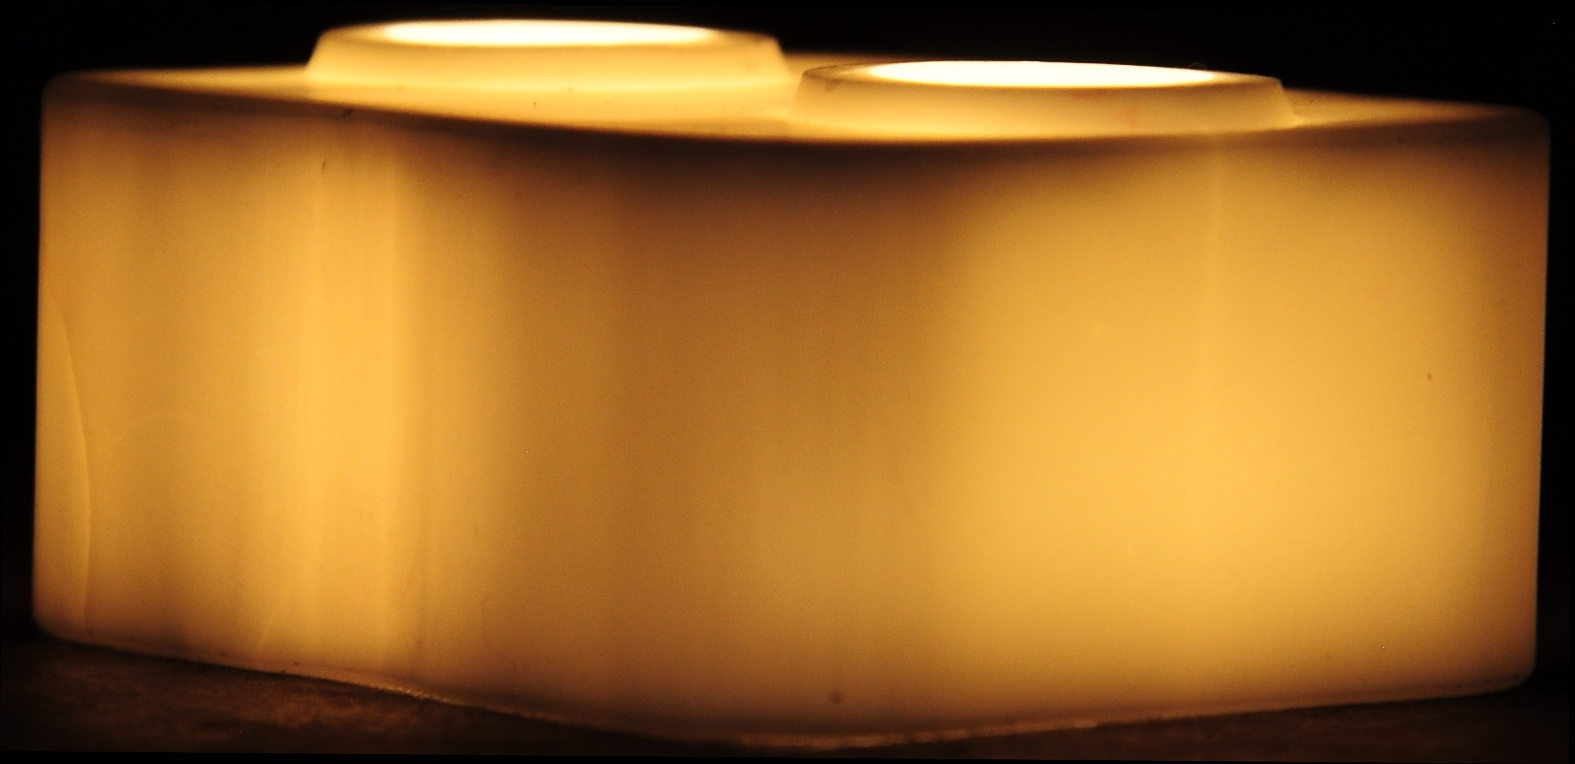flaw: (42, 241, 103, 636)
